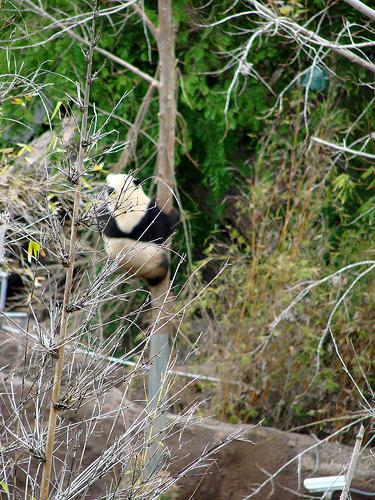panda: (103, 174, 175, 292)
